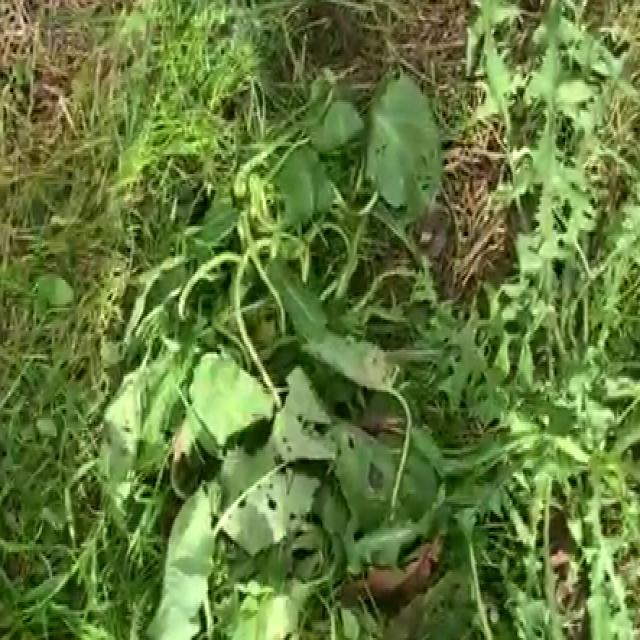organic waste: (52, 84, 516, 594)
